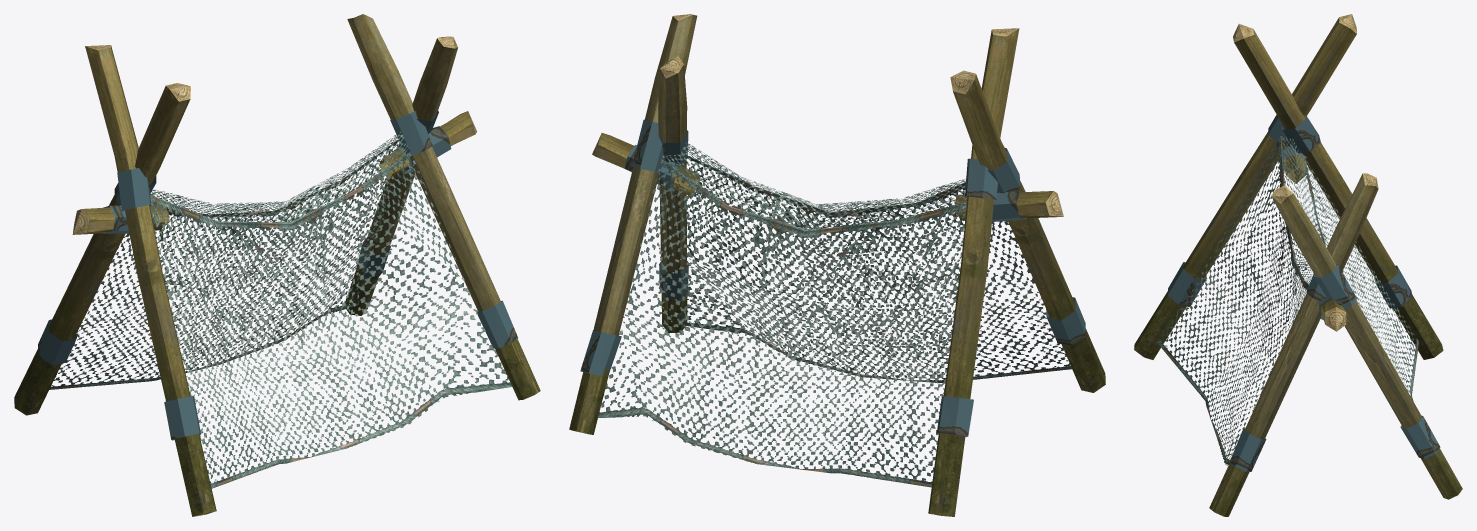
Rendered from 7002_Item_yuwang_1.FBX.
3 renders of one model, left to right at view 1: azimuth 30°, elevation 25°; view 2: azimuth 150°, elevation 25°; view 3: azimuth 270°, elevation 25°, orthographic. The views are drawn at different scales.
Parts seen in each view (by area): view 1: 7002_Item_yuwang_1; view 2: 7002_Item_yuwang_1; view 3: 7002_Item_yuwang_1.
Part boxes in pixels (left/top/right/bottom): 7002_Item_yuwang_1: left=14, top=14, right=540, bottom=516; 7002_Item_yuwang_1: left=569, top=14, right=1105, bottom=516; 7002_Item_yuwang_1: left=1134, top=14, right=1462, bottom=516.
Bounding box in the file's own units: 223 × 166 × 195.
